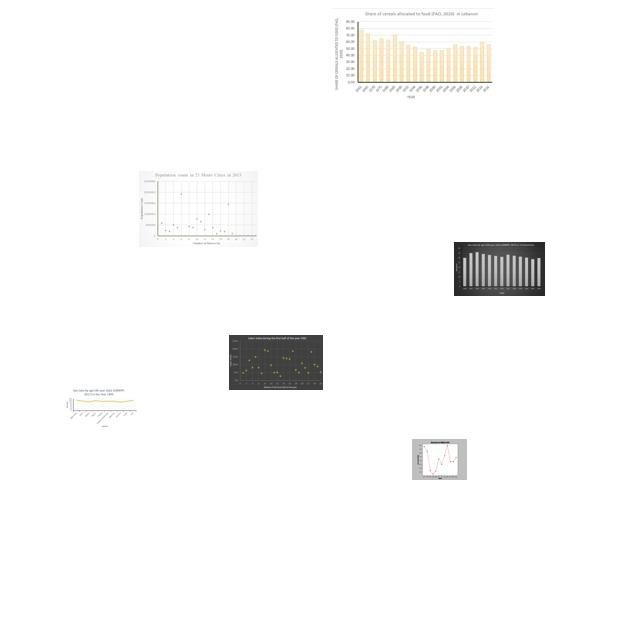Graph: (332, 8, 494, 102), (139, 171, 258, 247), (229, 335, 323, 390), (454, 242, 545, 296), (65, 388, 137, 428), (412, 439, 467, 480)
